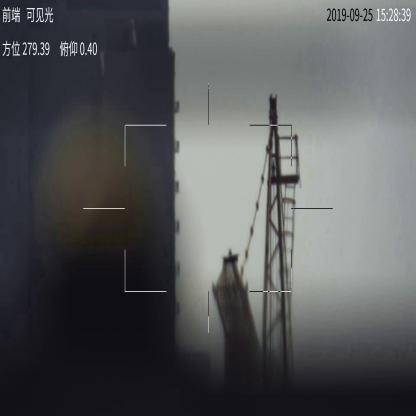uav: (222, 253, 238, 267)
